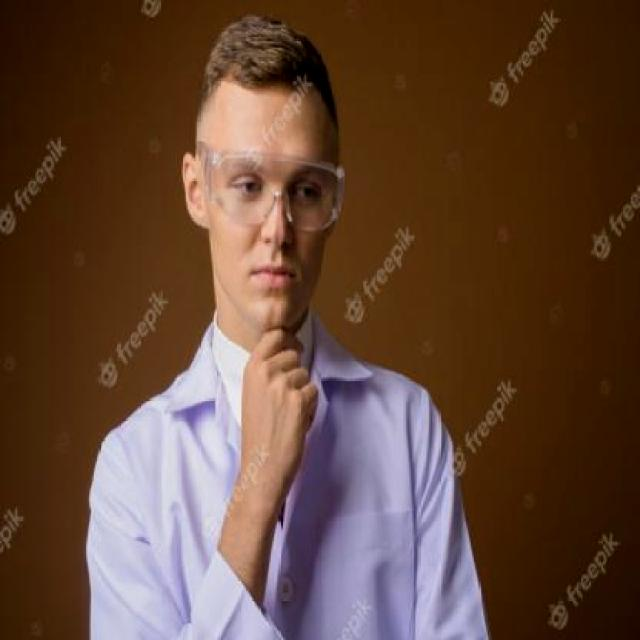face_nomask: (219, 154, 327, 306)
glasses: (193, 136, 342, 233)
hand_noglove: (236, 328, 324, 446)
head_nohelmet: (196, 12, 333, 116)
person: (80, 14, 486, 640)
